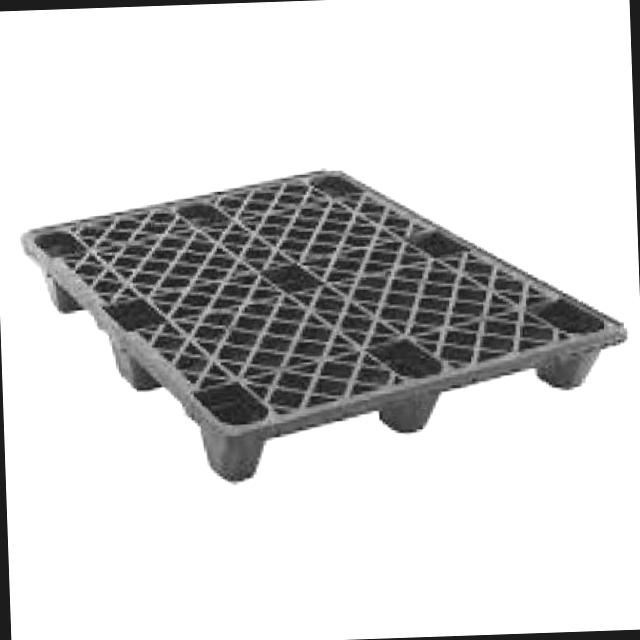pallet: (8, 130, 640, 496)
